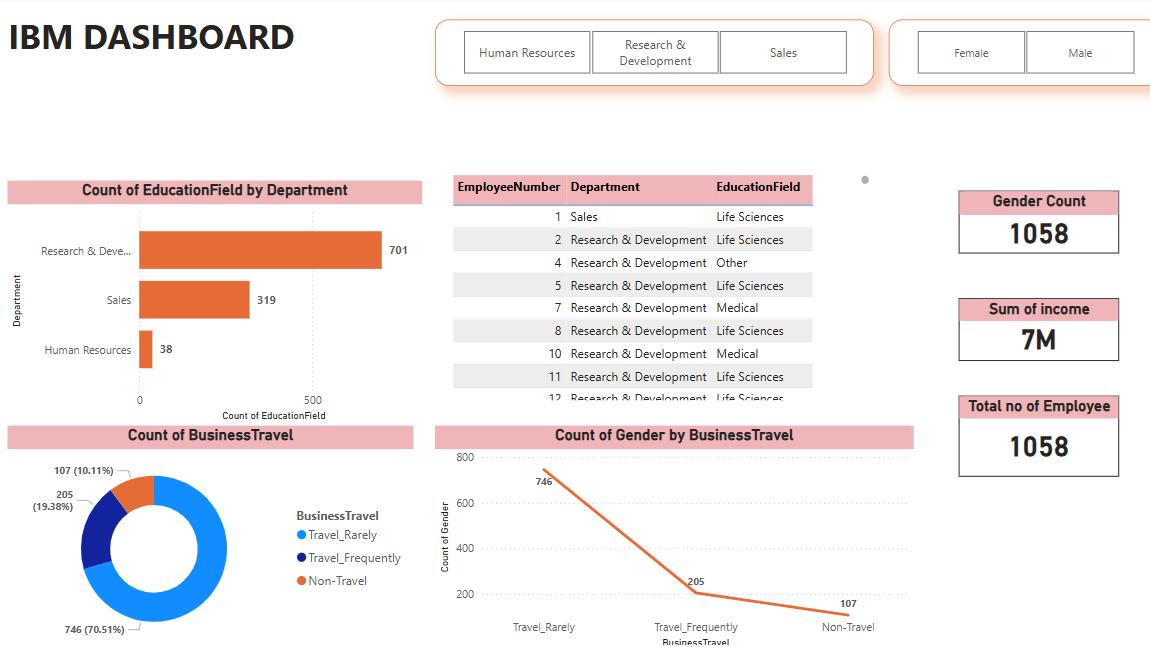

The dashboard page shown, as its layout file describes it:
{"tool":"powerbi","page":{"name":"Page 1","canvas":[1280,720],"ordinal":0},"visuals":[{"type":"card","title":"Total no of Employee","fields":{"Values":["CountNonNull(Employee Data.EmployeeNumber)"]},"box":[1058,613.4,175.6,68.6],"z":0},{"type":"card","title":"Sum of income","fields":{"Values":["Sum(Employee Data.MonthlyIncome)"]},"box":[1058,424,175.6,68.6],"z":1},{"type":"card","title":"Gender Count","fields":{"Values":["CountNonNull(Employee Data.Gender)"]},"box":[1058,212.7,175.6,68.6],"z":2},{"type":"clusteredBarChart","fields":{"Category":["Employee Data.Department"],"Y":["CountNonNull(Employee Data.EducationField)"]},"box":[13.7,201.7,455.6,269],"z":3},{"type":"donutChart","title":"Count of BusinessTravel","fields":{"Category":["Employee Data.BusinessTravel"],"Y":["CountNonNull(Employee Data.BusinessTravel)"]},"box":[13.7,470.7,446,249.7],"z":4},{"type":"lineChart","fields":{"Category":["Employee Data.BusinessTravel"],"Y":["CountNonNull(Employee Data.Gender)"]},"box":[483,470.7,525.6,249.7],"z":5},{"type":"tableEx","fields":{"Values":["Employee Data.EmployeeNumber","Employee Data.Department","Employee Data.EducationField"]},"box":[496.7,201.7,467.9,256.6],"z":6},{"type":"slicer","fields":{"Values":["Employee Data.Department"]},"box":[483,24.7,481.6,72.7],"z":7},{"type":"slicer","fields":{"Values":["Employee Data.Gender"]},"box":[981.1,24.7,299.1,72.7],"z":8},{"type":"textbox","box":[9.6,12.3,456.9,61.7],"z":9}]}

Visuals, with their boxes in screenshot pixels (x1, y1, x2, y2), scaled from the page's 1280x720 canvas onto the 1150x647 screenshot:
"Total no of Employee" card: box=[951, 551, 1108, 613]
"Sum of income" card: box=[951, 381, 1108, 443]
"Gender Count" card: box=[951, 191, 1108, 253]
clusteredBarChart - Employee Data.Department x CountNonNull(Employee Data.EducationField): box=[12, 181, 422, 423]
"Count of BusinessTravel" donutChart: box=[12, 423, 413, 646]
lineChart - Employee Data.BusinessTravel x CountNonNull(Employee Data.Gender): box=[434, 423, 906, 646]
tableEx - Employee Data.EmployeeNumber x Employee Data.Department: box=[446, 181, 867, 412]
slicer - Employee Data.Department: box=[434, 22, 867, 88]
slicer - Employee Data.Gender: box=[881, 22, 1149, 88]
textbox: box=[9, 11, 419, 66]
